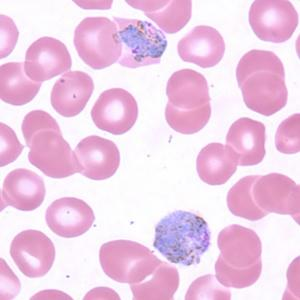Infected: (133, 231, 202, 285), (87, 32, 146, 90)
Uninfected: (141, 17, 201, 61), (220, 121, 271, 172), (179, 230, 226, 284), (161, 164, 207, 212), (245, 21, 290, 70), (12, 184, 59, 230), (229, 217, 275, 262), (1, 84, 49, 127), (2, 257, 50, 300), (206, 62, 256, 103), (179, 119, 224, 164), (37, 32, 83, 76), (74, 232, 121, 275), (206, 183, 249, 230), (17, 210, 65, 251), (31, 79, 73, 125), (33, 134, 73, 182), (89, 188, 133, 231), (121, 0, 170, 38), (254, 88, 297, 131), (38, 11, 86, 49), (258, 194, 299, 238), (61, 115, 103, 157), (88, 165, 134, 203), (237, 150, 280, 190), (107, 267, 157, 298), (69, 0, 115, 25), (277, 131, 299, 180), (0, 145, 24, 185), (0, 81, 21, 113)
